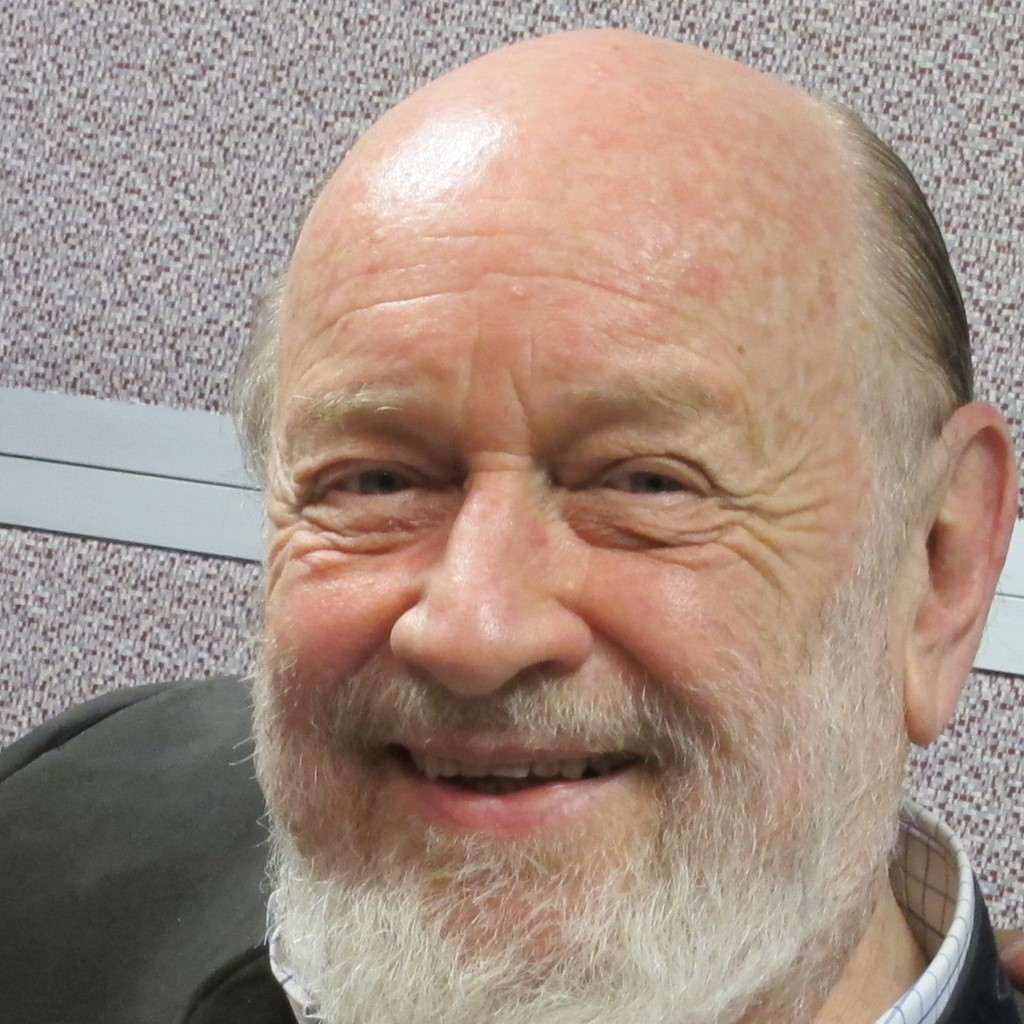sin_mascara: (281, 100, 896, 1018)
